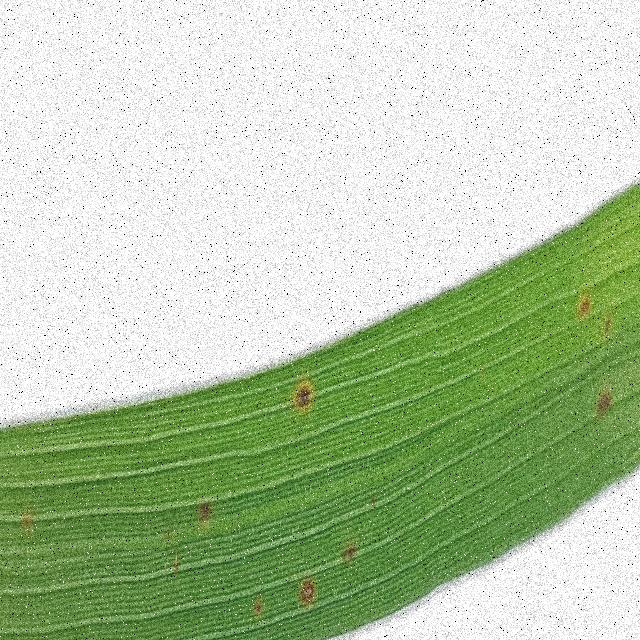LEAF BLAST: (294, 379, 313, 411), (300, 579, 316, 610), (597, 390, 612, 416)
